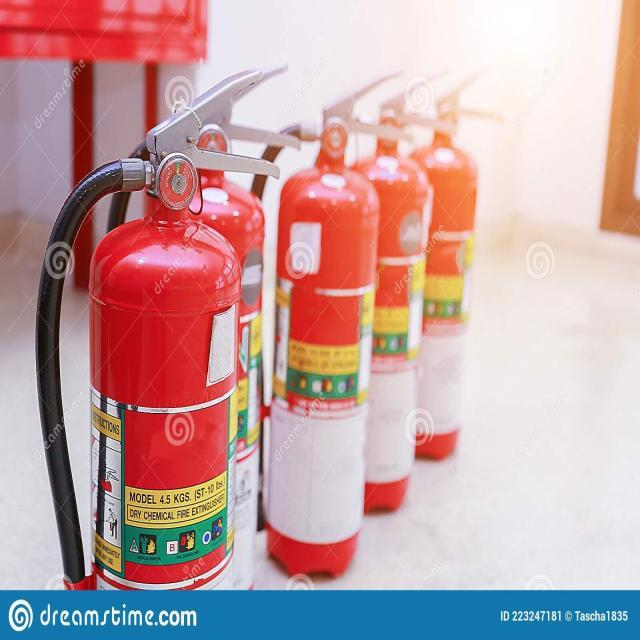fire_extinguisher: (31, 58, 293, 592), (240, 60, 422, 582), (322, 56, 463, 522), (356, 60, 514, 462)
